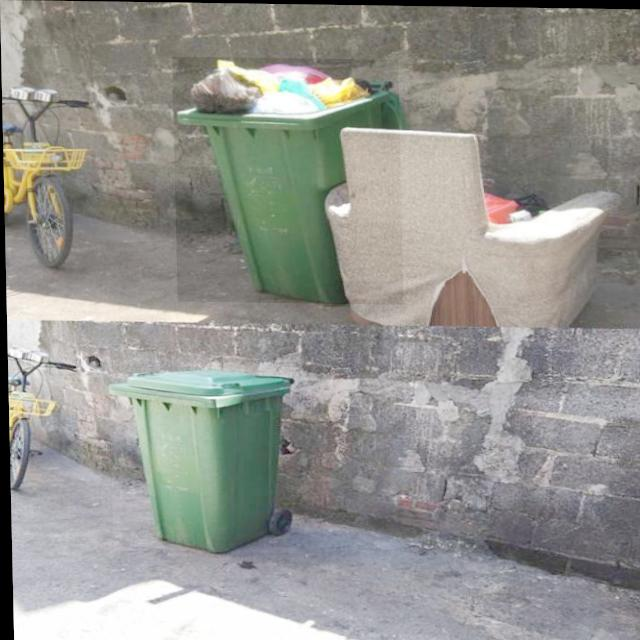garbage_bin: (107, 367, 293, 552)
overflow: (172, 56, 402, 304)
